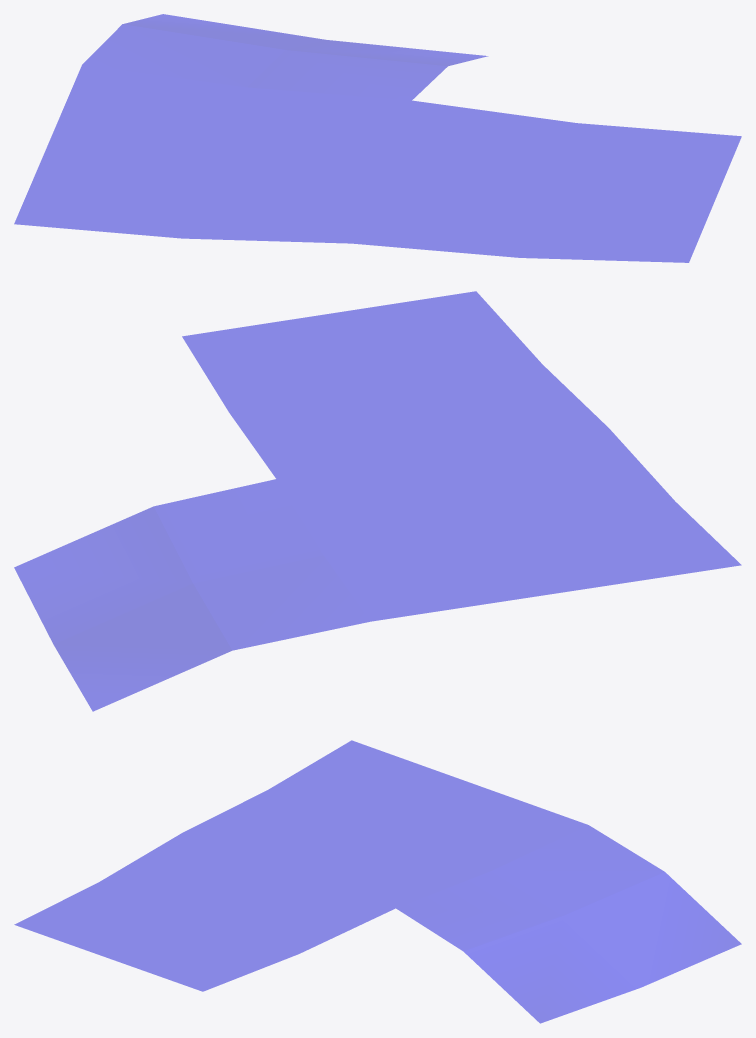
File: track_la_coll_road_28.fbx
3 renders of one model, top to bottom at view 1: azimuth 30°, elevation 25°; view 2: azimuth 150°, elevation 25°; view 3: azimuth 270°, elevation 25°, orthographic. The views are drawn at different scales.
Visible parts, largest first — view 1: track_la_coll_road_28; view 2: track_la_coll_road_28; view 3: track_la_coll_road_28.
Boxes of the visible parts, box(x1,y1,x2,y2) form: track_la_coll_road_28: box(14, 14, 741, 262); track_la_coll_road_28: box(14, 291, 741, 711); track_la_coll_road_28: box(14, 740, 741, 1023).
Size of the model in its own units: 57.42 by 5.69 by 70.23.
